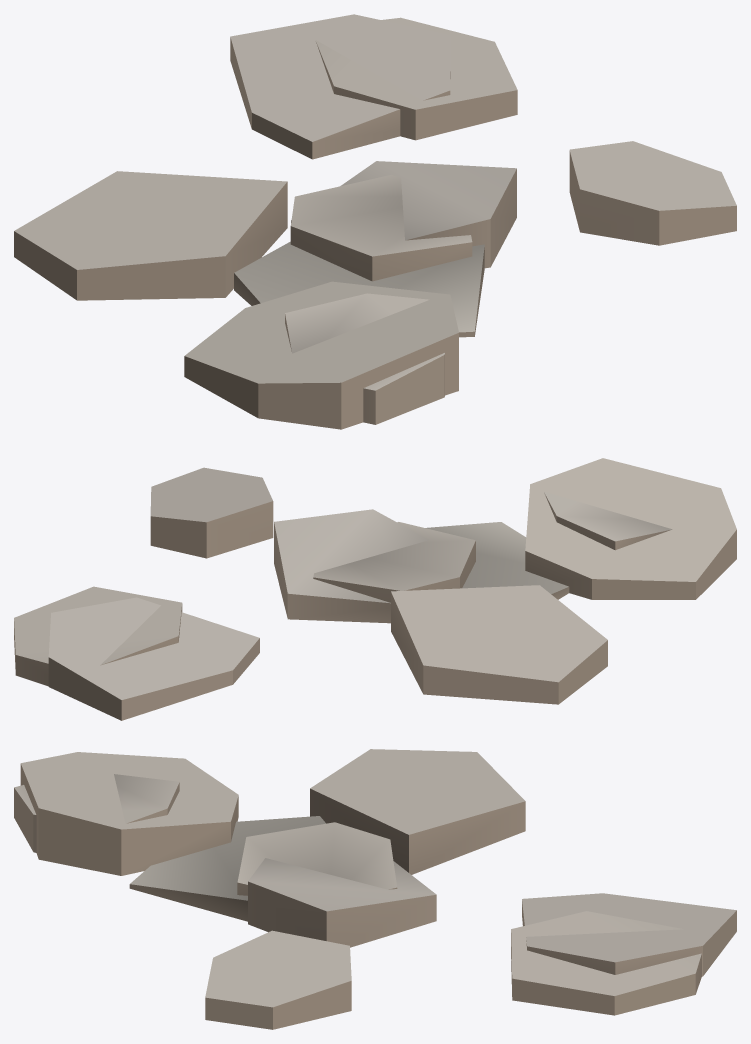
Rendered from salt_crust.glb.
3 views of the same model, one above another, from view 1: azimuth 30°, elevation 25°; view 2: azimuth 150°, elevation 25°; view 3: azimuth 270°, elevation 25° (orthographic). The views are drawn at different scales.
Visible parts, largest first — view 1: salt_crust; view 2: salt_crust; view 3: salt_crust.
Part boxes in pixels (x1,y1,x2,y2): salt_crust: (14,14,736,429); salt_crust: (14,458,736,720); salt_crust: (14,749,736,1029).
Bounding box in the file's own units: 4.05 × 0.3817 × 4.86.
